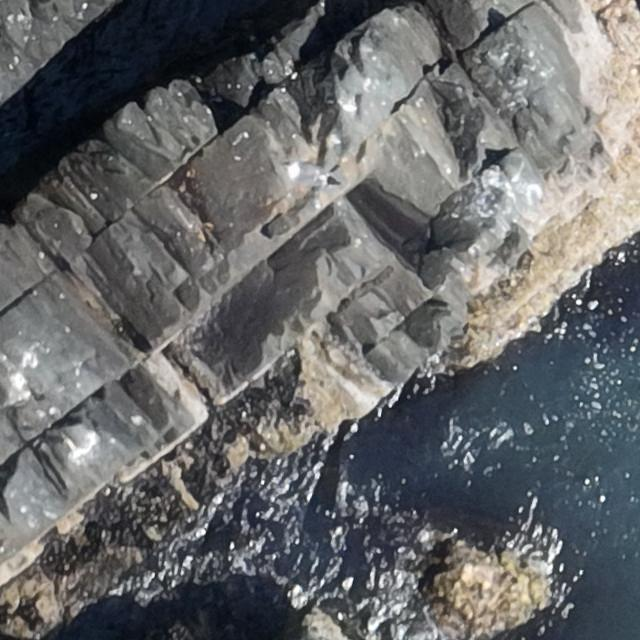umineko: (290, 162, 320, 180)
